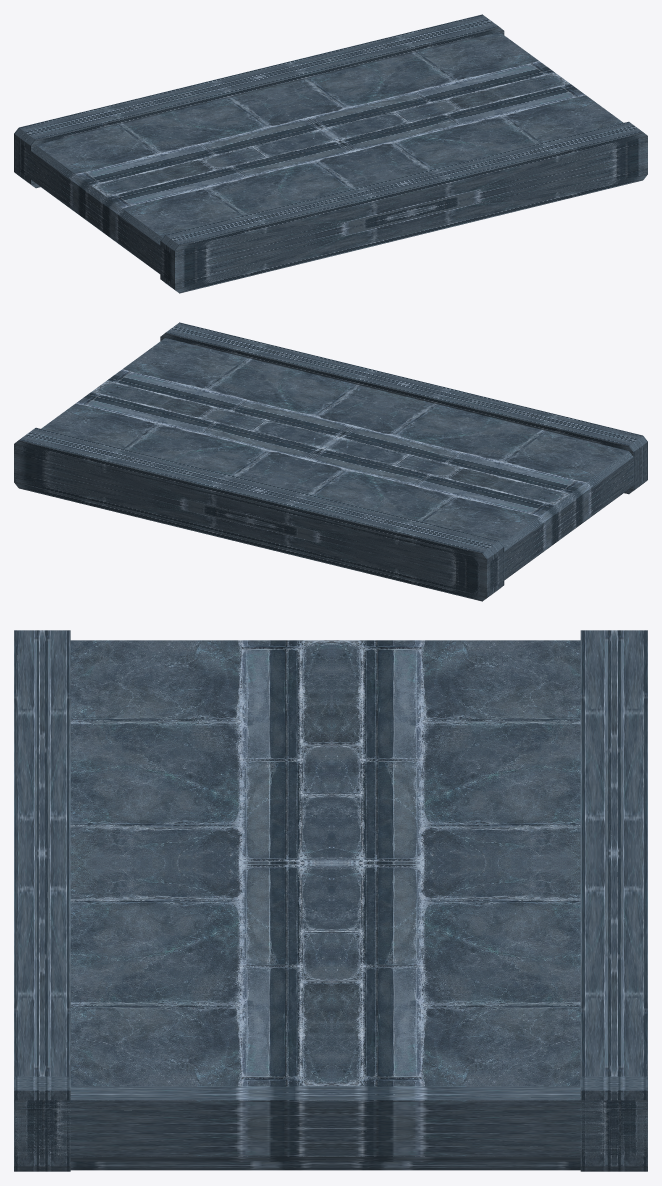
File: rv_interior_wall.obj
The picture shows the model from 3 angles, top to bottom: view 1: azimuth 30°, elevation 25°; view 2: azimuth 150°, elevation 25°; view 3: azimuth 270°, elevation 25°; orthographic projection. The views are drawn at different scales.
Parts seen in each view (by area): view 1: rv_interior_wall; view 2: rv_interior_wall; view 3: rv_interior_wall.
Part boxes in pixels (x1,y1,x2,y2): rv_interior_wall: (14, 14, 647, 293); rv_interior_wall: (14, 322, 647, 601); rv_interior_wall: (14, 630, 647, 1171).
Size of the model in its own units: 8 by 0.895 by 4.71.
1 material, 1 textured.
